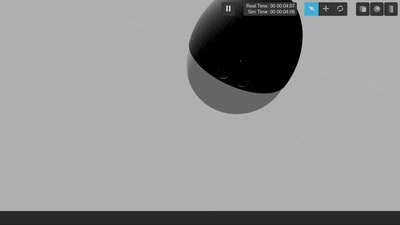mira_robot: (186, 1, 304, 115)
